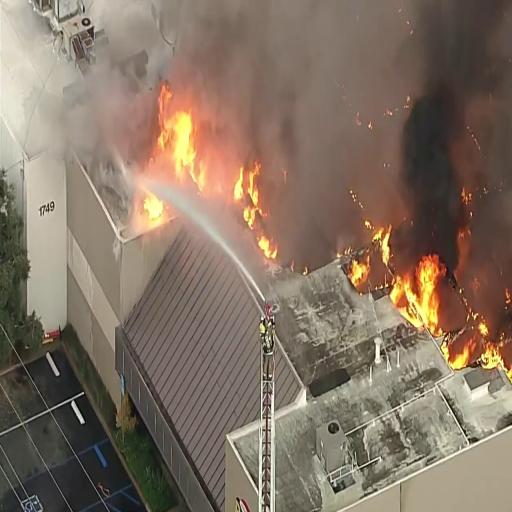fire: (152, 92, 197, 182)
smoke: (249, 0, 442, 119)
